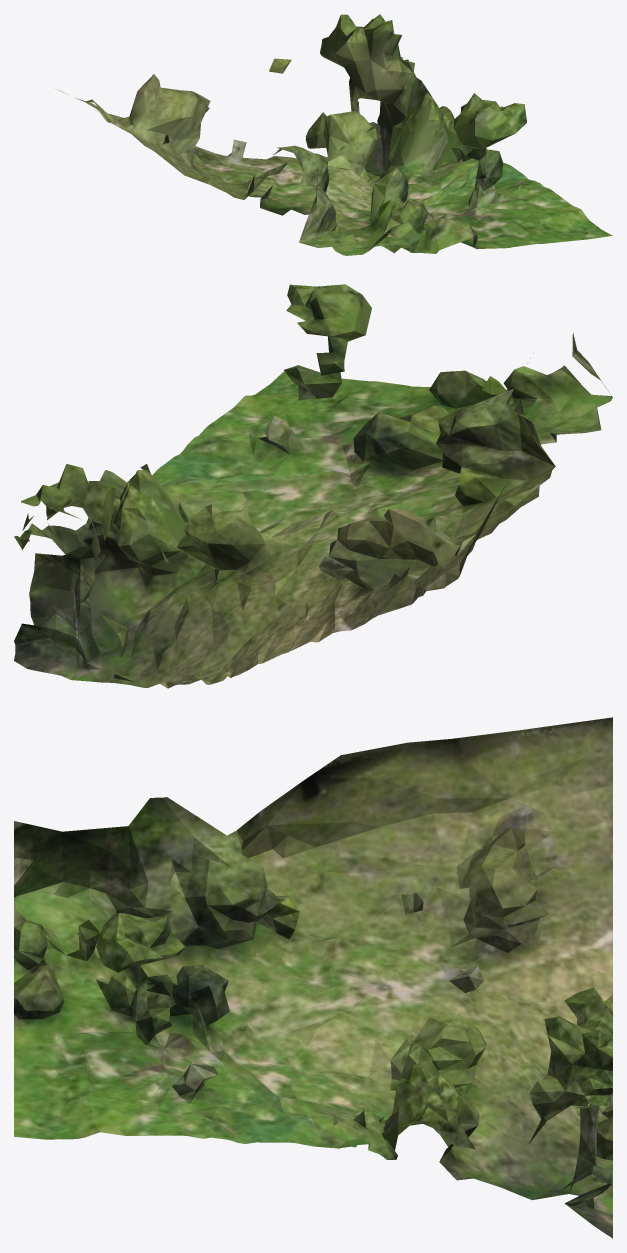
3 renders of one model, top to bottom at view 1: azimuth 30°, elevation 25°; view 2: azimuth 150°, elevation 25°; view 3: azimuth 270°, elevation 25°, orthographic. The views are drawn at different scales.
Size of the model in its own units: 52.19 by 26.39 by 52.22.
4 materials, 4 textured.
